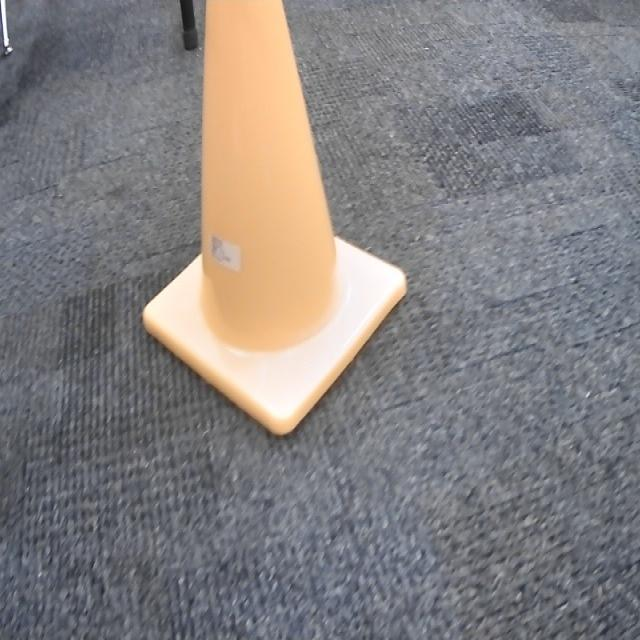cone: (139, 0, 407, 440)
